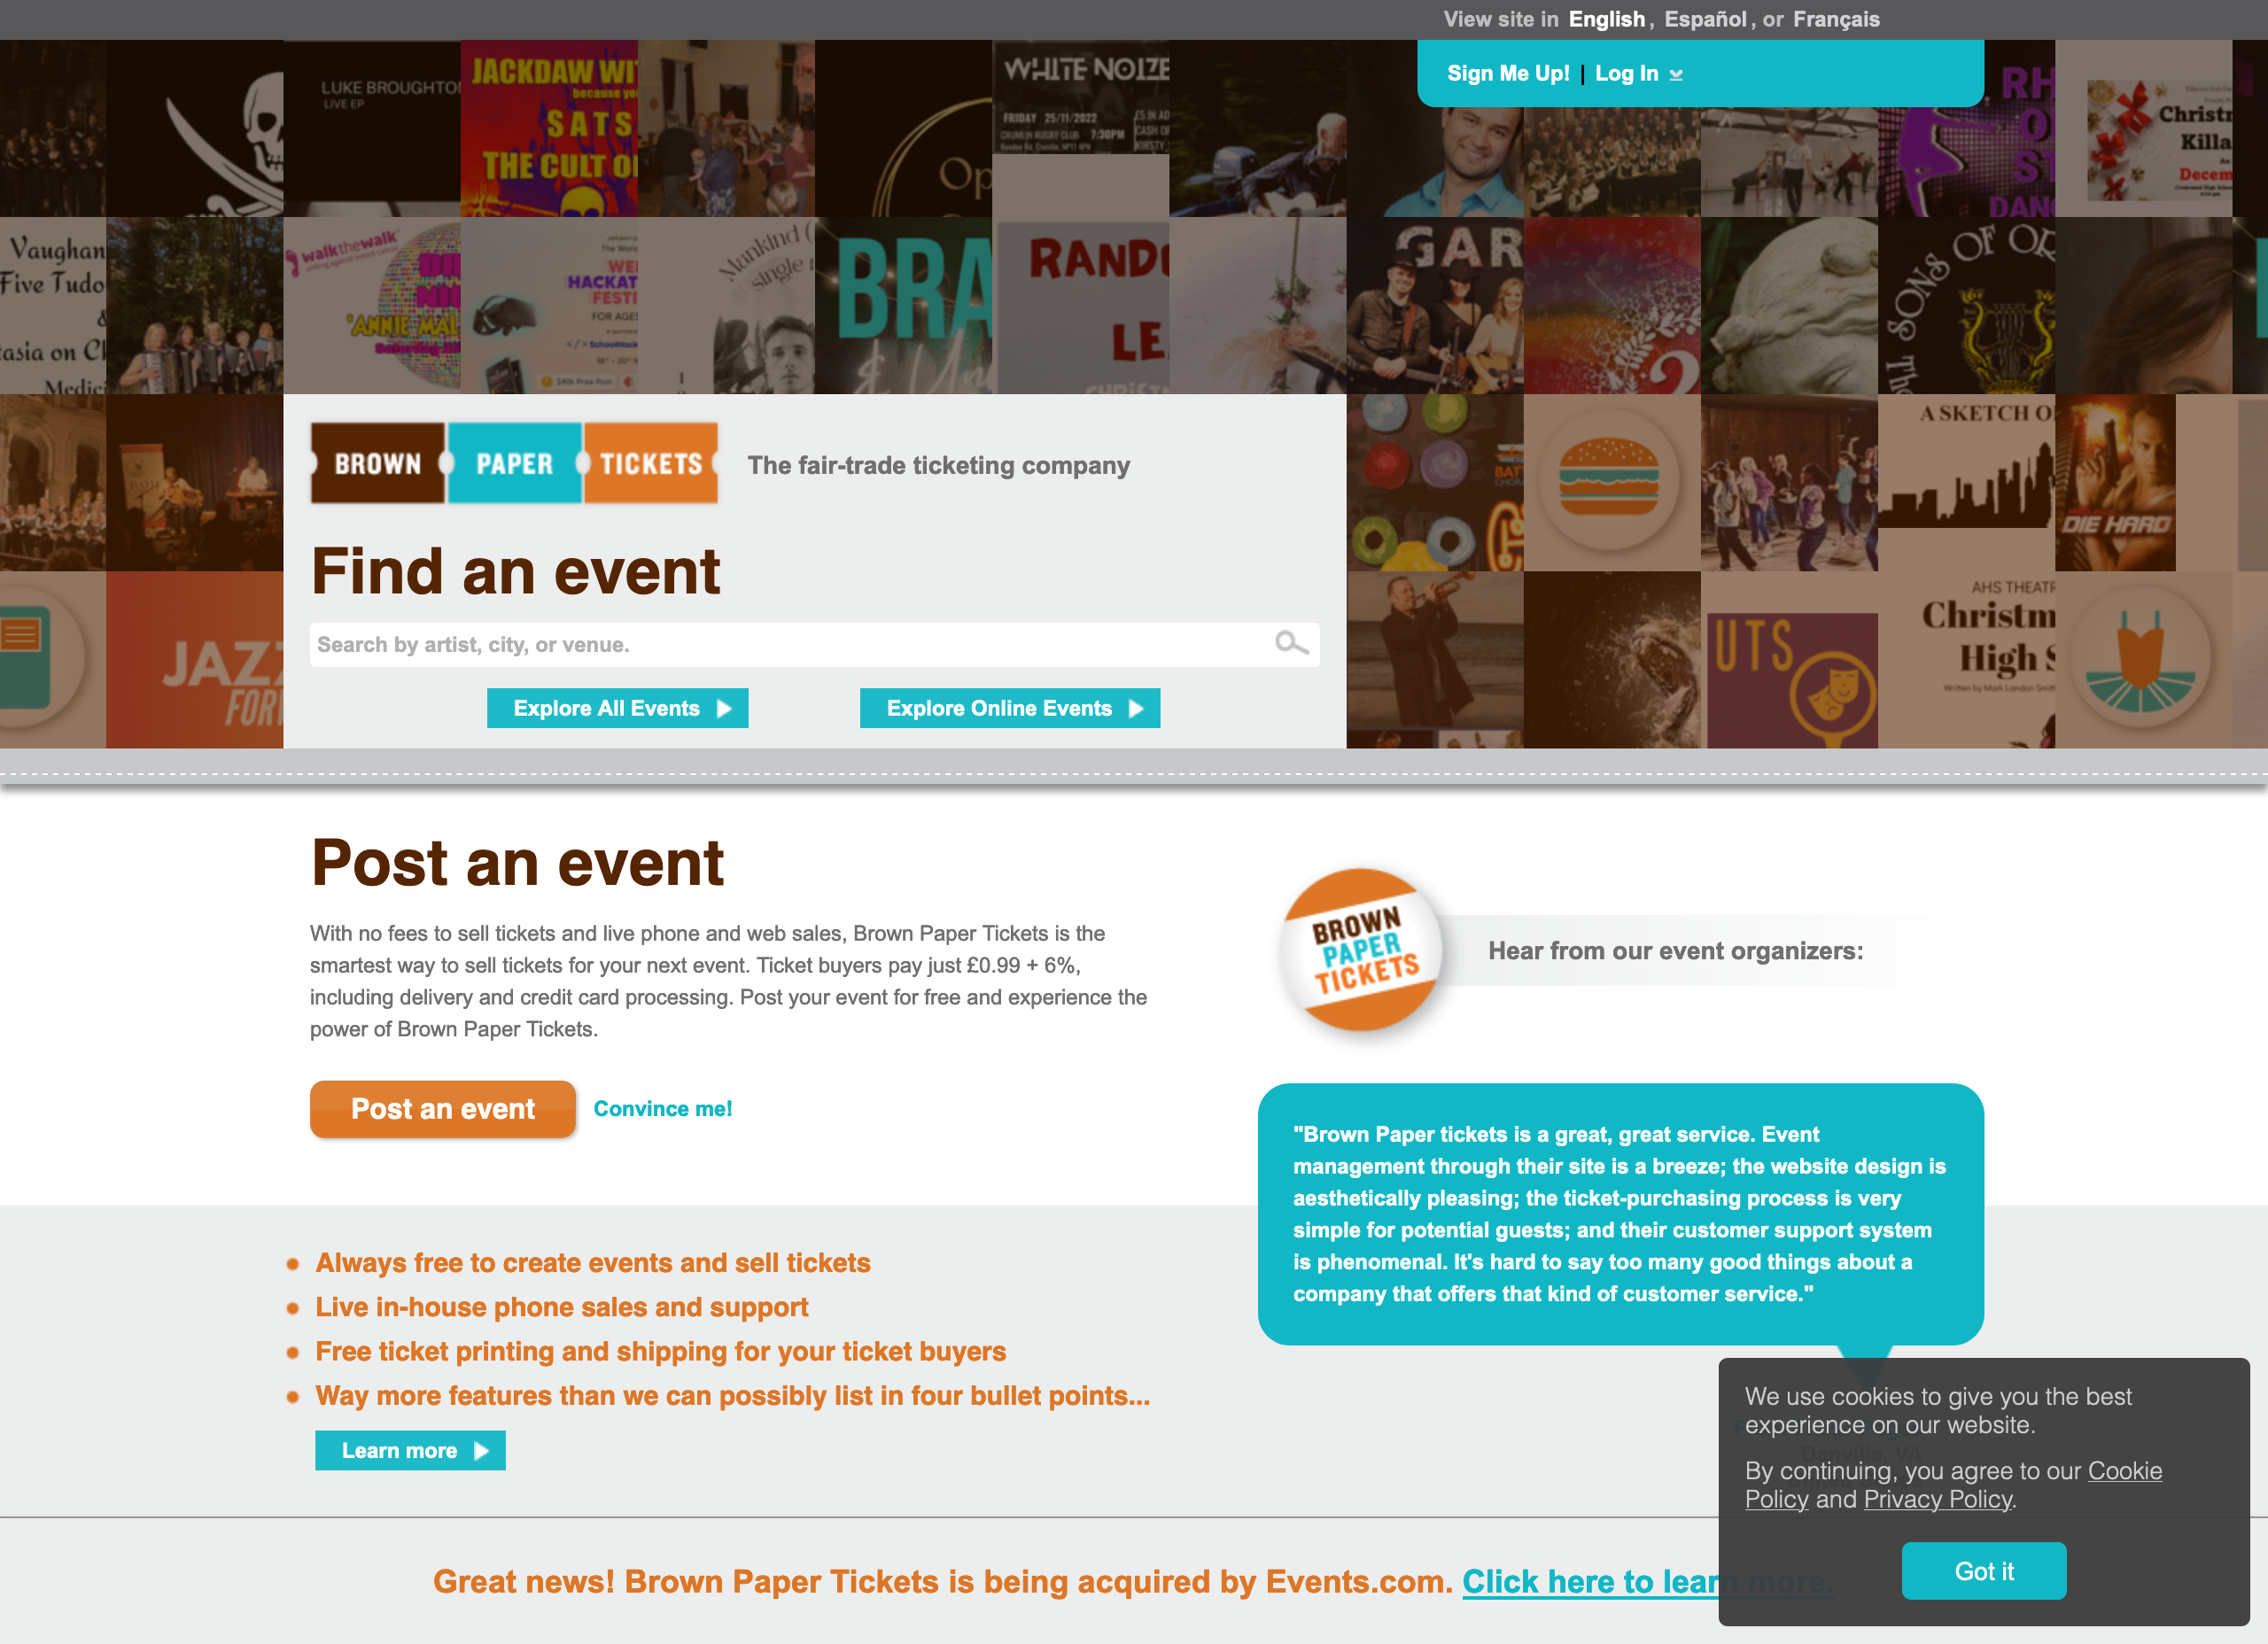Login: (1590, 55, 1662, 90)
